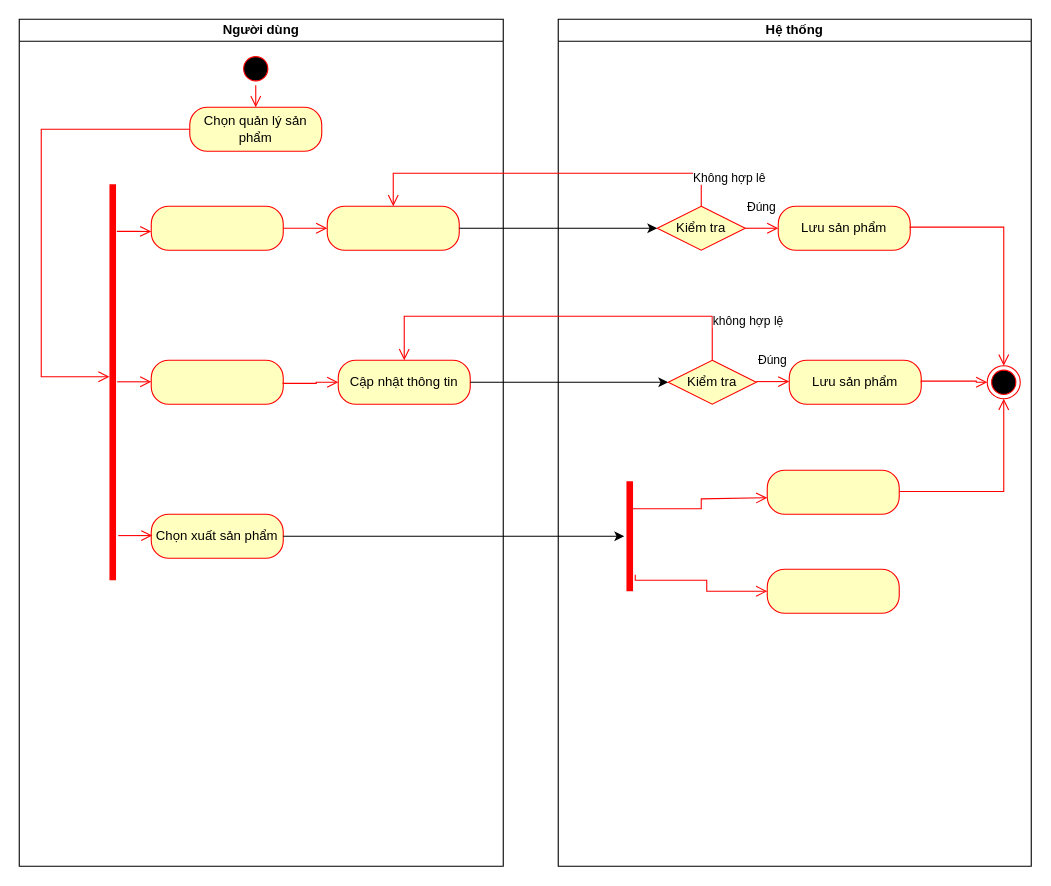
The diagram is 1051 pixels wide and 886 high, and some of its shapes have lost their labels. Here are the shapes that lost their labels. From the top down, the centre of each, then its label:
point (216, 227): Chọn thêm sản phẩm
point (392, 227): Nhập thông tin sản phẩm
point (216, 381): Chọn sửa sản phẩm
point (832, 491): Lưu thông tin xuất hàng
point (832, 590): Cập nhật số lượng sản phẩm
